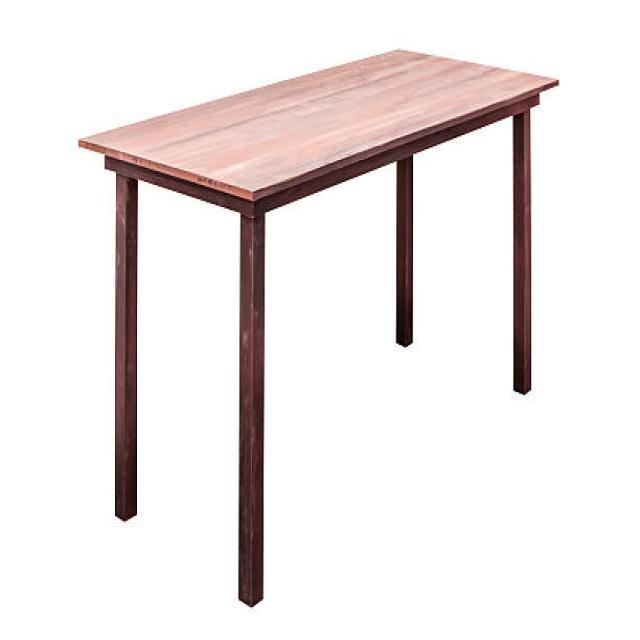table: (78, 45, 560, 608)
